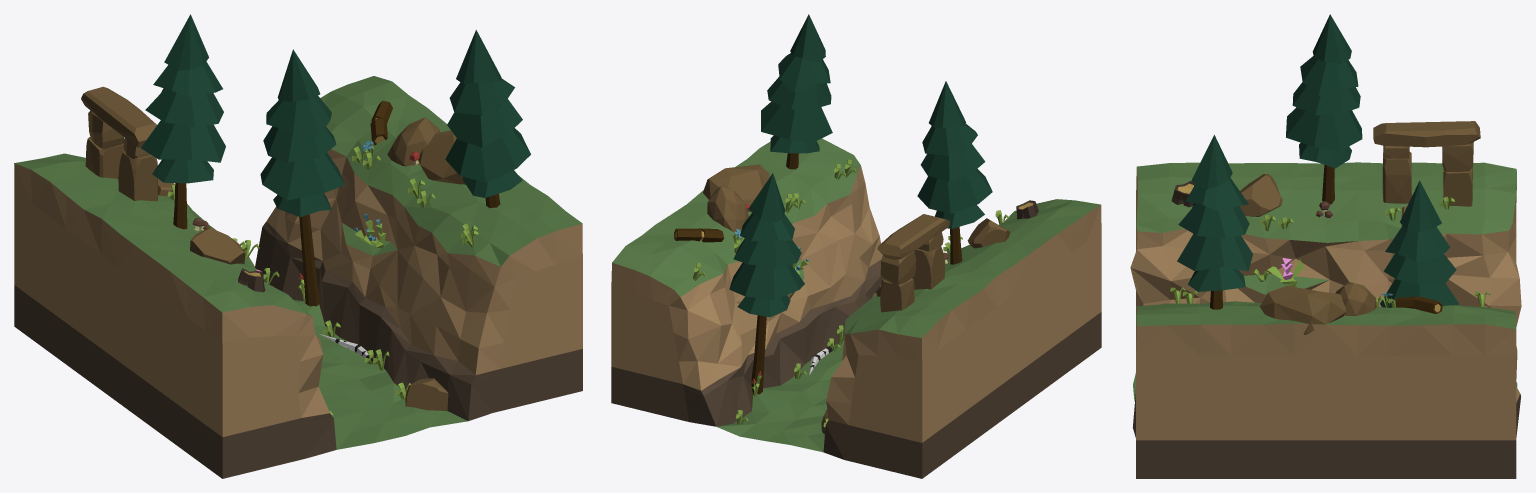
File: ICorridor - Mesh.fbx
3 views of the same model, side by side, from view 1: azimuth 30°, elevation 25°; view 2: azimuth 150°, elevation 25°; view 3: azimuth 270°, elevation 25° (orthographic). The views are drawn at different scales.
Visible parts, largest first — view 1: ICorridor - Mesh; view 2: ICorridor - Mesh; view 3: ICorridor - Mesh.
Boxes of the visible parts, box(x1,y1,x2,y2) form: ICorridor - Mesh: box(14, 14, 582, 478); ICorridor - Mesh: box(611, 14, 1101, 478); ICorridor - Mesh: box(1130, 14, 1521, 478).
Bounding box in the file's own units: 2017 × 2034 × 2057.
